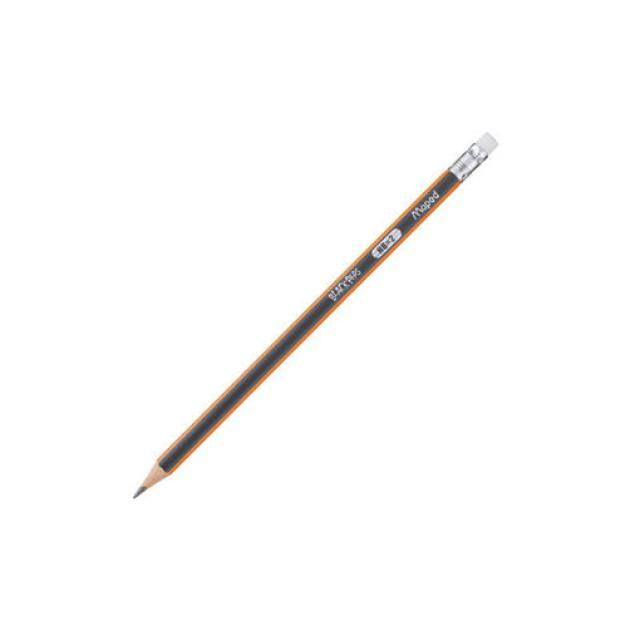pencil: (117, 104, 508, 517)
